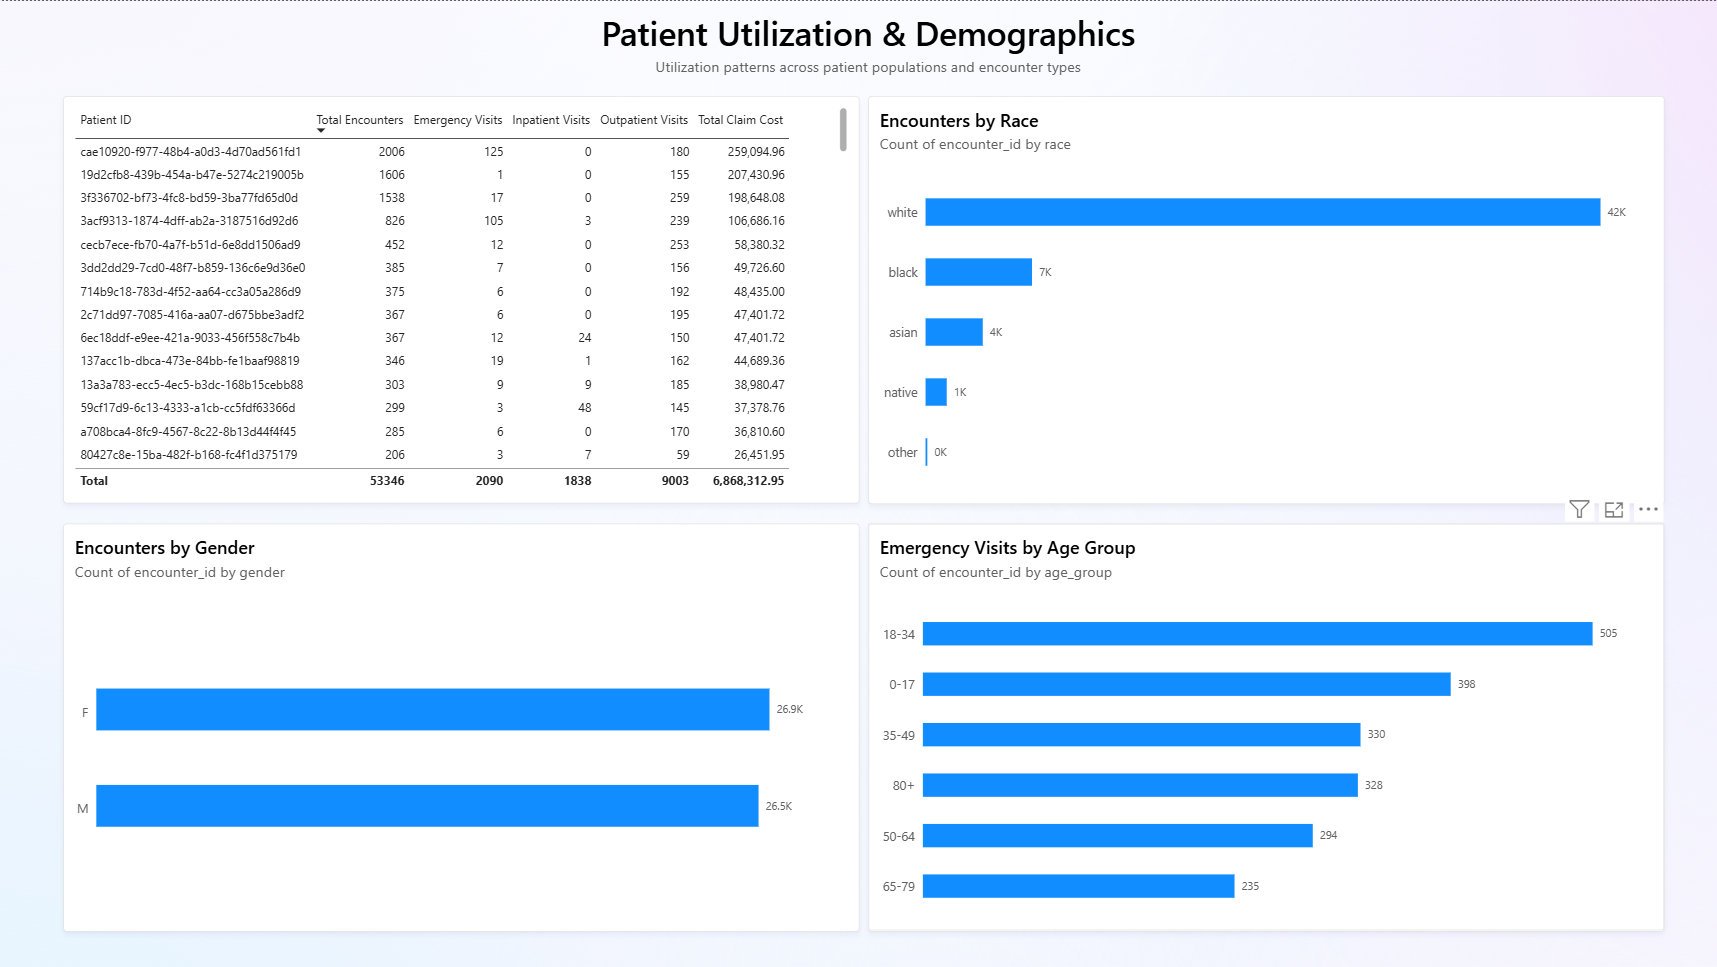

Layout of this report page (visuals, bound fields, positions):
{"tool":"powerbi","page":{"name":"Utilization & Demographics","canvas":[1920,1080],"ordinal":1},"visuals":[{"type":"tableEx","fields":{"Values":["public vw_patient_utilization.patient_id","Sum(public vw_patient_utilization.total_encounters)","Sum(public vw_patient_utilization.emergency_visits)","Sum(public vw_patient_utilization.inpatient_visits)","Sum(public vw_patient_utilization.outpatient_visits)","Sum(public vw_patient_utilization.total_claim_cost)"]},"box":[73.7,105.8,886.4,453.6],"z":0},{"type":"clusteredBarChart","title":"Encounters by Gender","fields":{"Category":["public vw_encounter_summary.gender"],"Y":["CountNonNull(public vw_encounter_summary.encounter_id)"]},"box":[73.7,581.7,886,454],"z":1000},{"type":"clusteredBarChart","title":"Encounters by Race","fields":{"Category":["public vw_encounter_summary.race"],"Y":["CountNonNull(public vw_encounter_summary.encounter_id)"]},"box":[969.9,105.8,886,454],"z":2000},{"type":"clusteredBarChart","title":"Emergency Visits by Age Group","fields":{"Category":["public vw_encounter_summary.age_group"],"Y":["CountNonNull(public vw_encounter_summary.encounter_id)"]},"box":[969.9,581.7,886,454],"z":3000},{"type":"textbox","title":"Patient Utilization & Demographics","box":[658.2,9.7,623.4,83.5],"z":4000}]}

Visuals, with their boxes in screenshot pixels (x1, y1, x2, y2), scaled from the page's 1920x1080 canvas onto the 1717x967 screenshot:
tableEx - public vw_patient_utilization.patient_id x Sum(public vw_patient_utilization.total_encounters): x1=66 y1=95 x2=859 y2=501
"Encounters by Gender" clusteredBarChart: x1=66 y1=521 x2=858 y2=927
"Encounters by Race" clusteredBarChart: x1=867 y1=95 x2=1660 y2=501
"Emergency Visits by Age Group" clusteredBarChart: x1=867 y1=521 x2=1660 y2=927
"Patient Utilization & Demographics" textbox: x1=589 y1=9 x2=1146 y2=83
